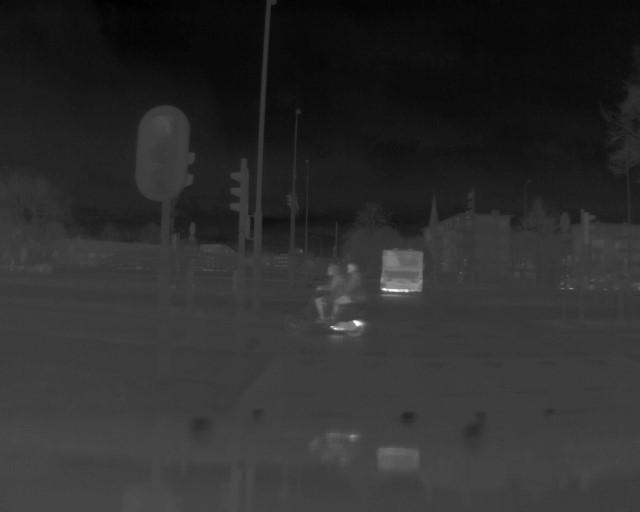person: (314, 261, 341, 321), (343, 262, 368, 308)
